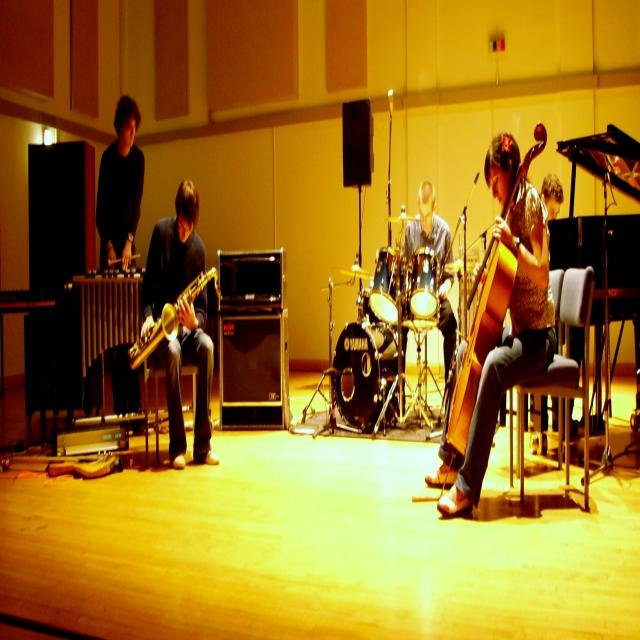cello: (444, 119, 551, 452)
drums: (312, 245, 486, 440)
saxophone: (123, 265, 226, 372)
